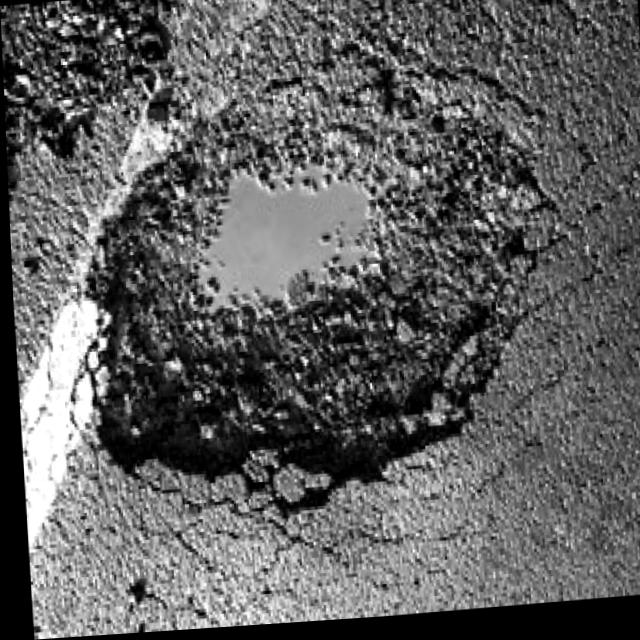pathole: (49, 75, 583, 614)
